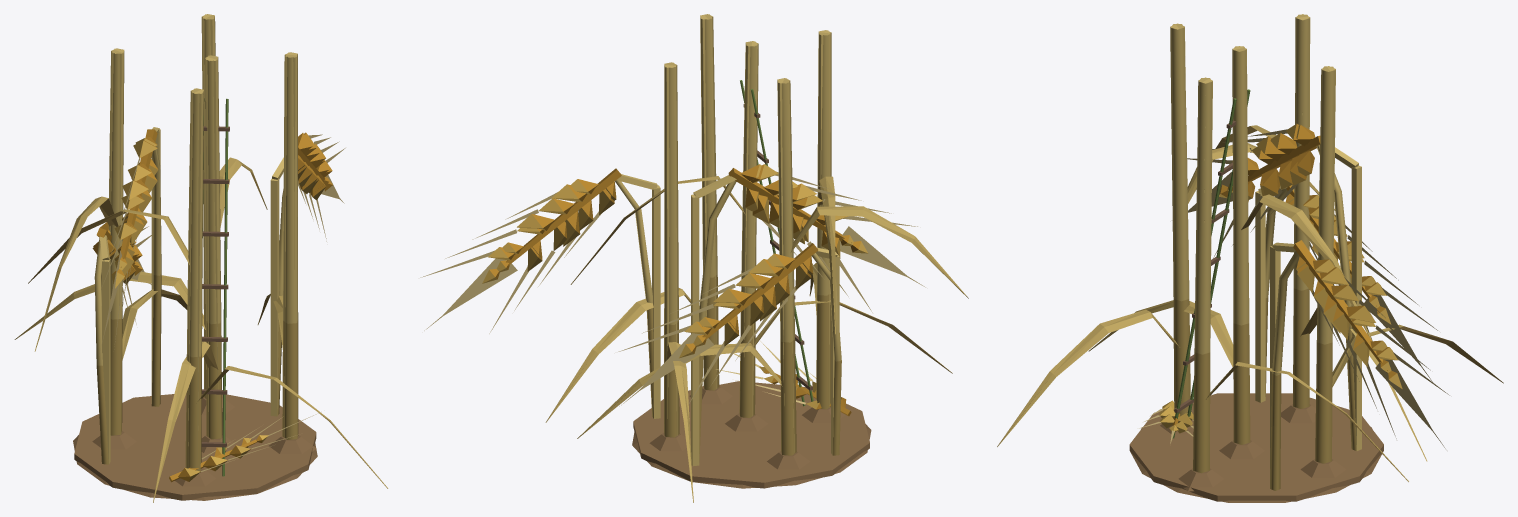
File: wheat_forest_ripe.glb
3 views of the same model, side by side, from view 1: azimuth 30°, elevation 25°; view 2: azimuth 150°, elevation 25°; view 3: azimuth 270°, elevation 25° (orthographic). The views are drawn at different scales.
Visible parts, largest first — view 1: body, body__far, body_nl, body_nh; view 2: body, body__far, body_nl, body_nh; view 3: body, body__far, body_nl, body_nh.
Boxes of the visible parts, x1,y1,x2,y2 form: body: [73, 14, 317, 500]; body__far: [74, 14, 340, 500]; body_nl: [14, 98, 388, 502]; body_nh: [100, 134, 345, 471]; body: [632, 14, 871, 488]; body__far: [443, 14, 906, 488]; body_nl: [496, 80, 968, 502]; body_nh: [420, 171, 925, 406]; body: [1130, 14, 1383, 502]; body__far: [1129, 14, 1434, 501]; body_nl: [997, 89, 1503, 490]; body_nh: [1139, 129, 1449, 448].
Size of the model in its own units: 7.03 by 6.05 by 6.85.
